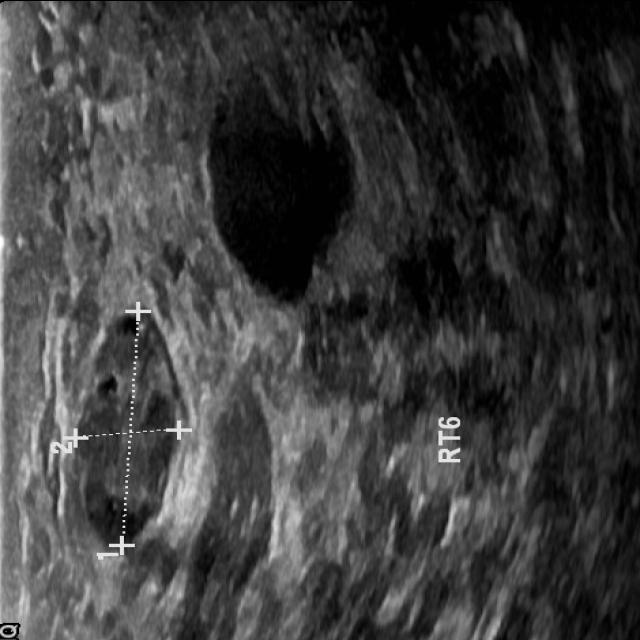Benign: (70, 296, 184, 548)
